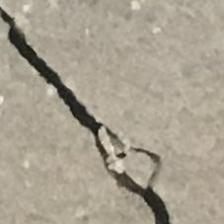Crack: (0, 4, 180, 224)
